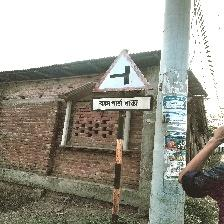Side-road-left: (90, 48, 153, 114)
